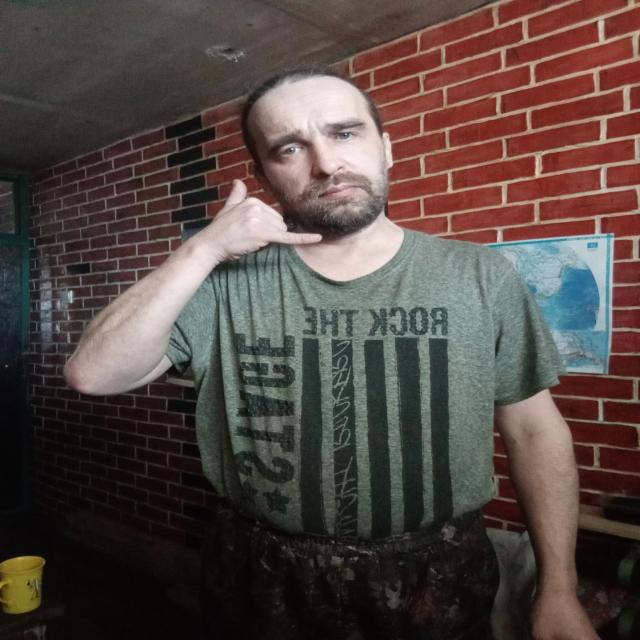call: (205, 178, 325, 259)
